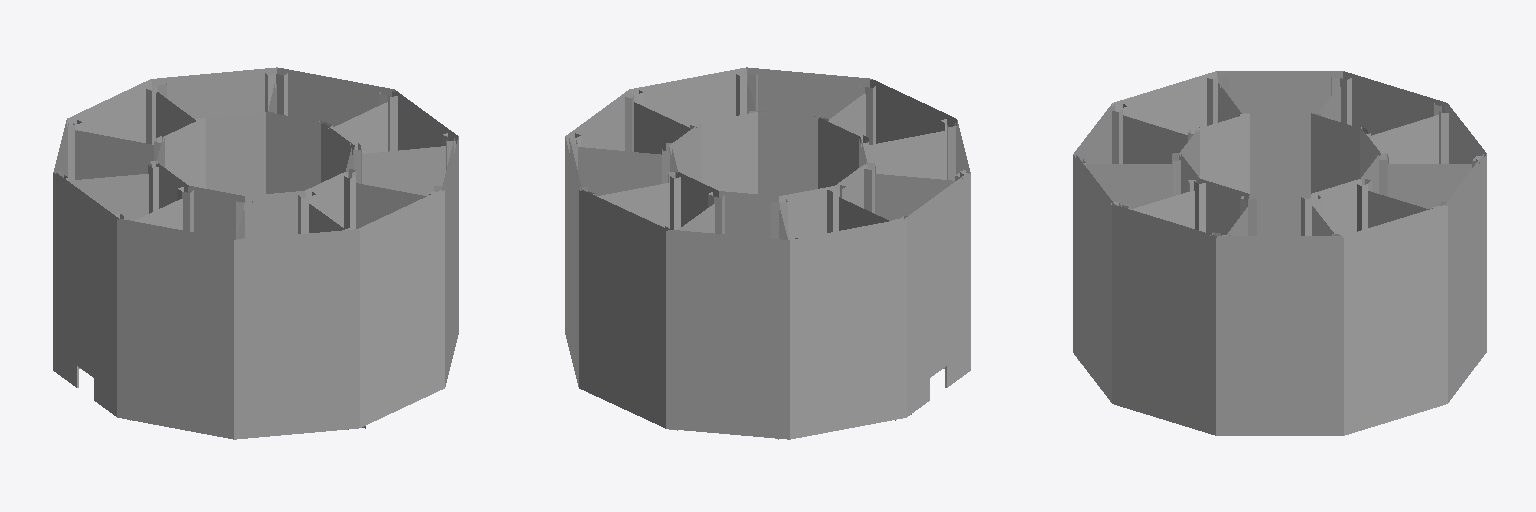
File: Demo_FieldWall.obj
3 views of the same model, side by side, from view 1: azimuth 30°, elevation 25°; view 2: azimuth 150°, elevation 25°; view 3: azimuth 270°, elevation 25° (orthographic).
Visible parts, largest first — view 1: Wall, Wall_2, Pillar; view 2: Wall, Wall_2, Pillar; view 3: Wall, Wall_2, Pillar.
Boxes of the visible parts, x1=… form: Wall: x1=53, y1=67, x2=458, y2=439; Wall_2: x1=69, y1=84, x2=445, y2=368; Pillar: x1=57, y1=73, x2=455, y2=429; Wall: x1=565, y1=67, x2=970, y2=439; Wall_2: x1=578, y1=84, x2=954, y2=368; Pillar: x1=569, y1=74, x2=965, y2=439; Wall: x1=1073, y1=71, x2=1486, y2=435; Wall_2: x1=1086, y1=83, x2=1471, y2=235; Pillar: x1=1078, y1=76, x2=1480, y2=360.
Bounding box in the file's own units: 744 × 424 × 782.